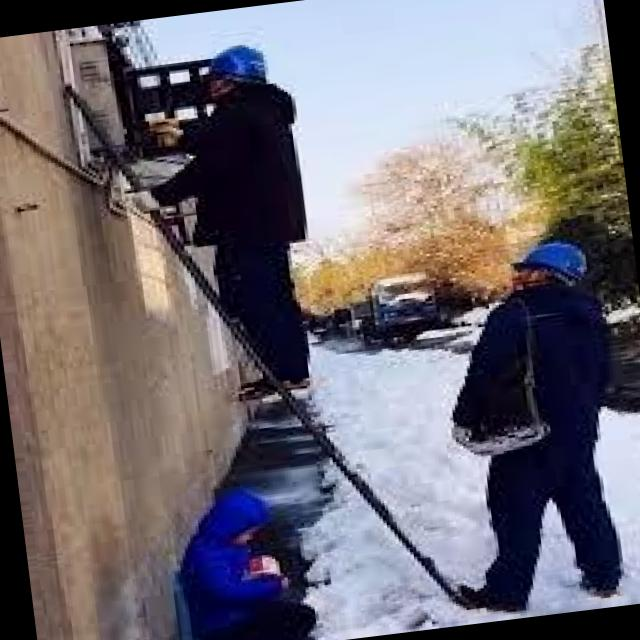helmet: (507, 231, 594, 283), (199, 38, 282, 87)
